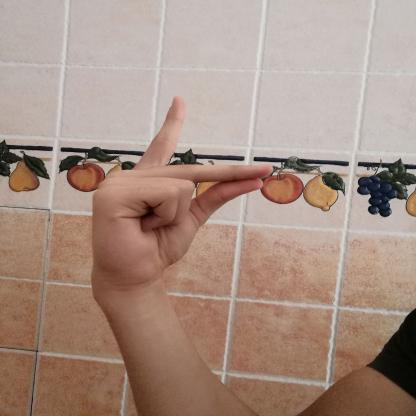TAA: (74, 86, 288, 298)
